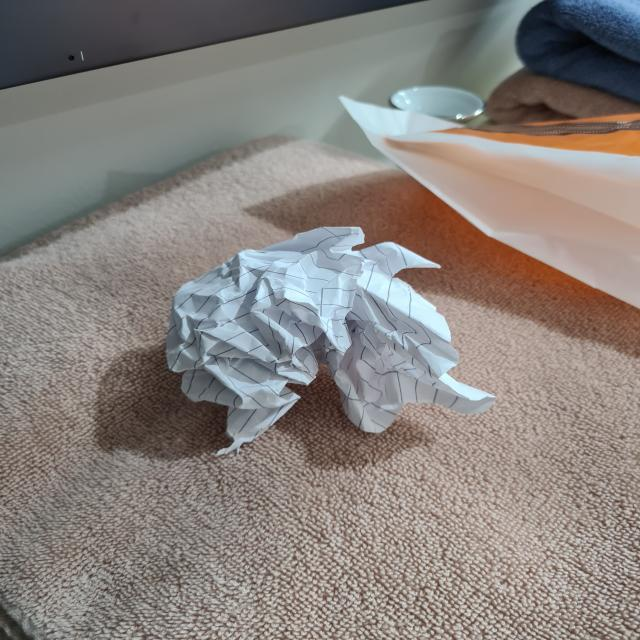Paper: (165, 227, 486, 451)
